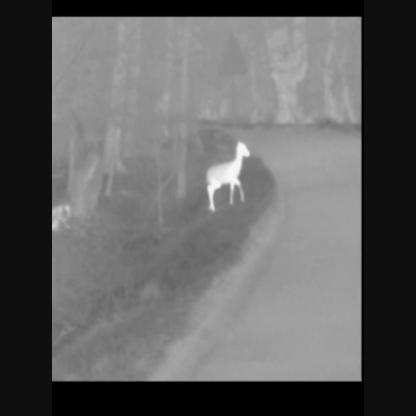rehkitze: (203, 141, 255, 213)
